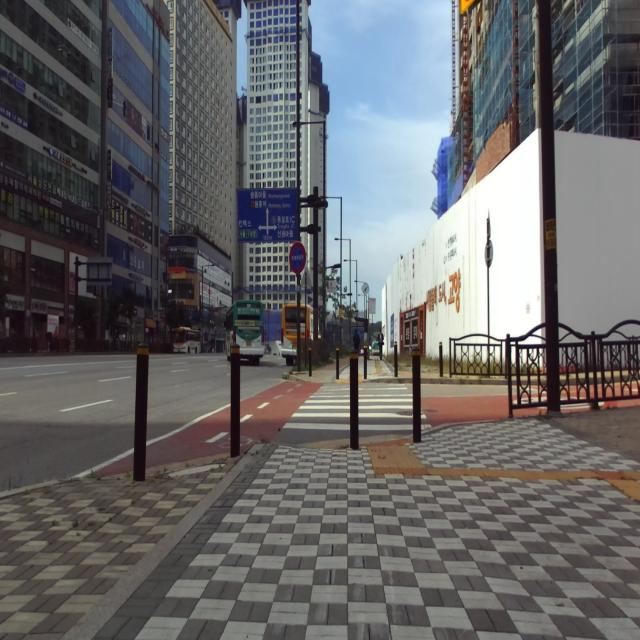횡단보도: (283, 384, 432, 429)
